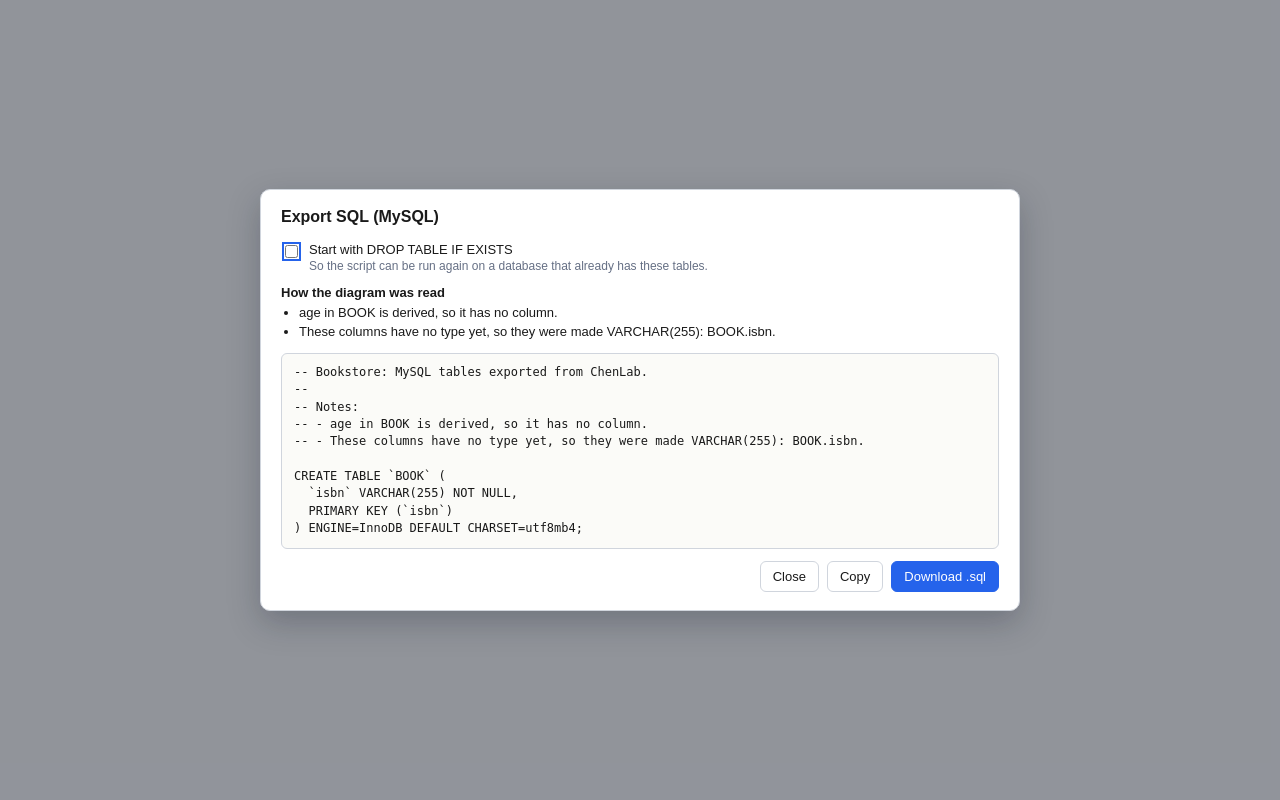
SqlExportDialog › copies the SQL and says so
This screenshot has width=1280, height=800.
Click the button "Copy" at (855, 576), box [827,561,883,592]
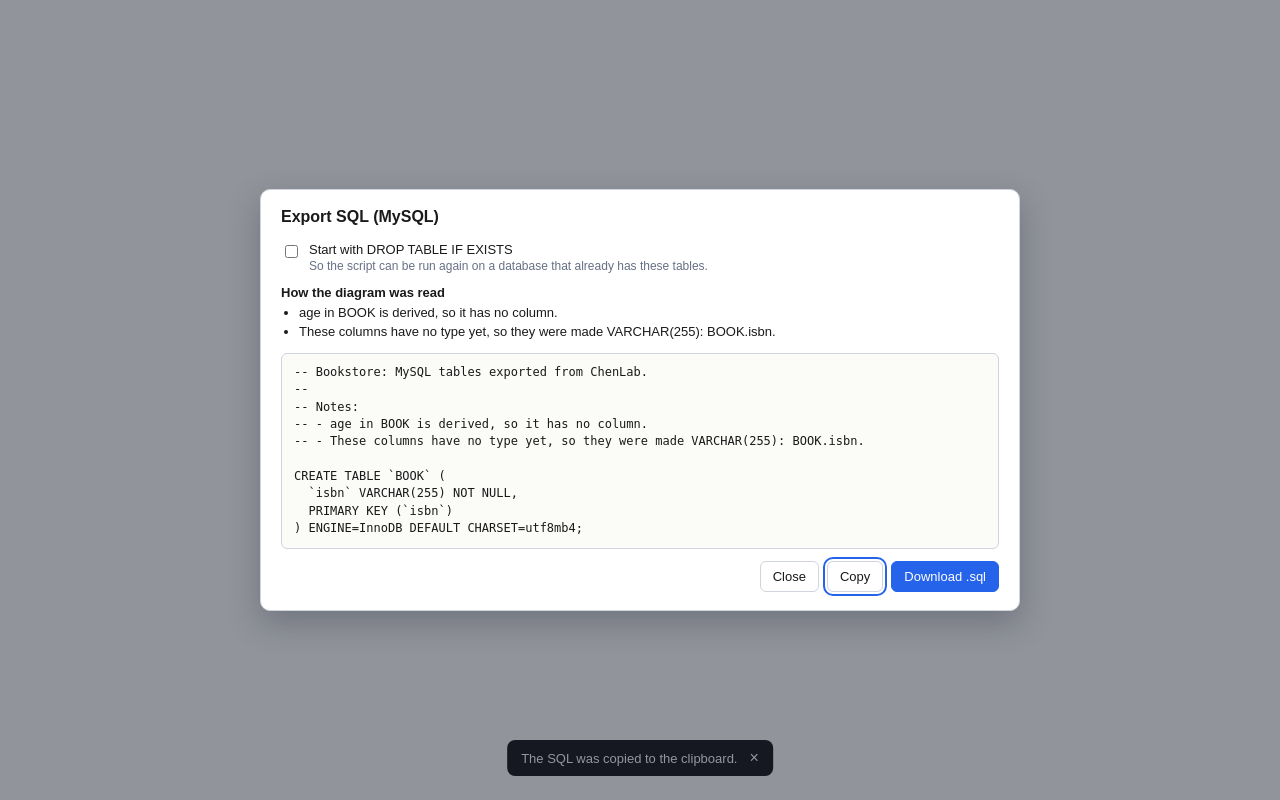
expect the text "The SQL was copied to the clipboard." is shown: met, box [521,750,738,766]
